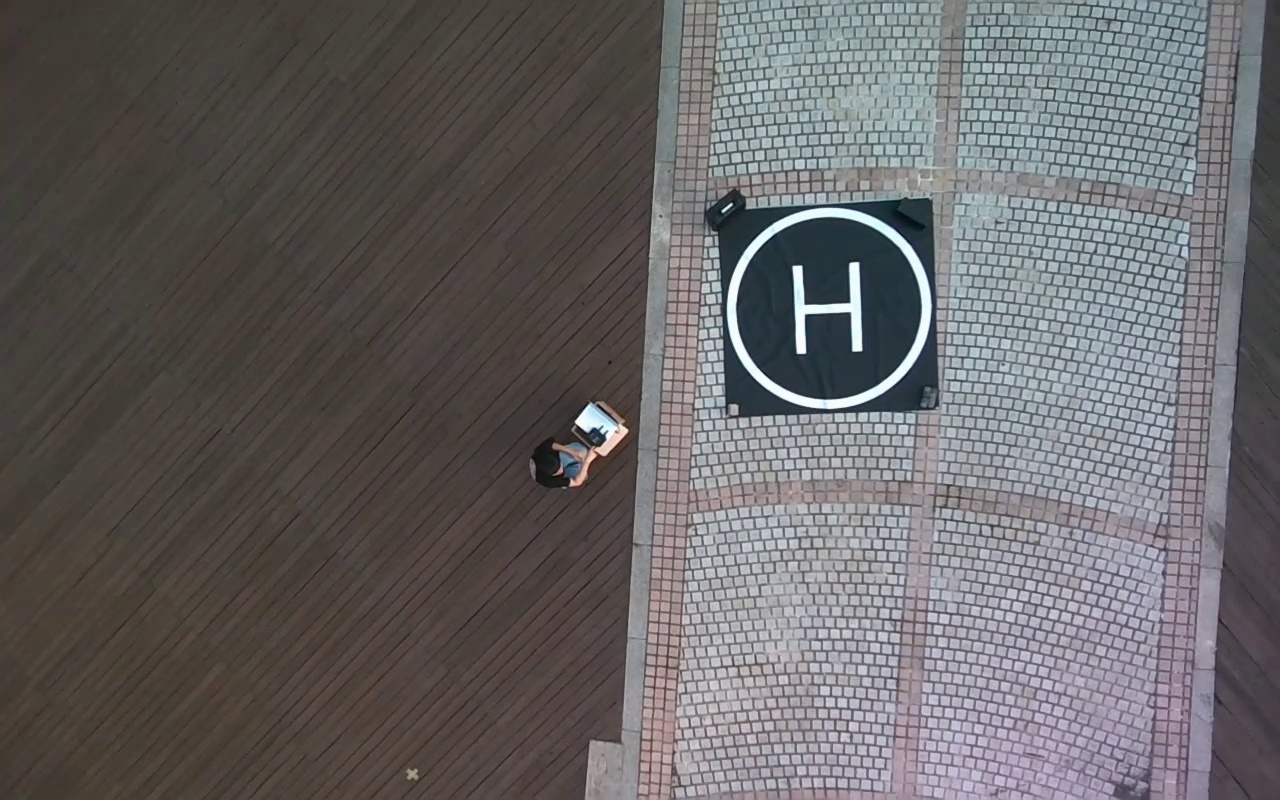H: (791, 261, 864, 355)
heliport: (725, 202, 934, 417)
